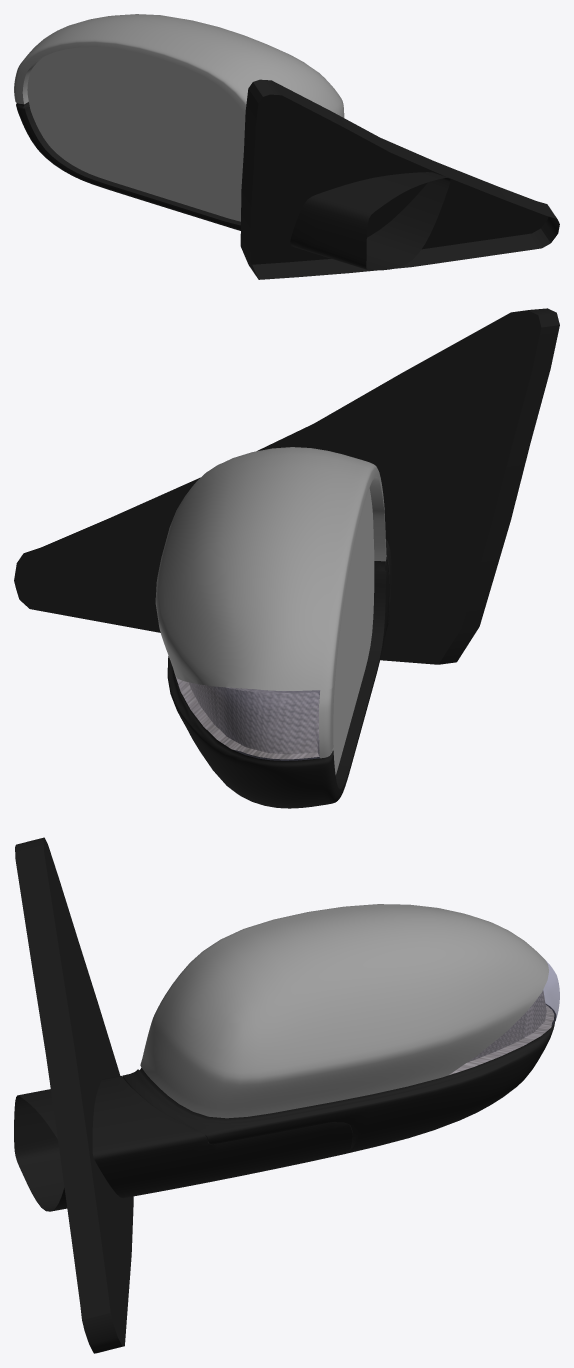
3 renders of one model, top to bottom at view 1: azimuth 30°, elevation 25°; view 2: azimuth 150°, elevation 25°; view 3: azimuth 270°, elevation 25°, orthographic. The views are drawn at different scales.
Visible parts, largest first — view 1: D162_261I_L_D162_261I_L_2_D, D162_261I_L_D162_261I_L_4_DTaSI, D162_261I_L_D162_261I_L_3_DaS; view 2: D162_261I_L_D162_261I_L_2_D, D162_261I_L_D162_261I_L_3_DaS, D162_261I_L_D162_261I_L_5_DTaSI, D162_261I_L_1_N_D162_261I_L, D162_261I_L_D162_261I_L_4_DTaSI, D162_261I_L_D162_261I_L_3_DaS_E; view 3: D162_261I_L_D162_261I_L_3_DaS, D162_261I_L_D162_261I_L_2_D, D162_261I_L_D162_261I_L_5_DTaSI, D162_261I_L_1_N_D162_261I_L.
Part boxes in pixels (<box>): D162_261I_L_D162_261I_L_2_D: <box>16,79,559,279</box>; D162_261I_L_D162_261I_L_4_DTaSI: <box>27,47,245,221</box>; D162_261I_L_D162_261I_L_3_DaS: <box>14,14,344,117</box>; D162_261I_L_D162_261I_L_2_D: <box>14,308,559,808</box>; D162_261I_L_D162_261I_L_3_DaS: <box>155,447,386,758</box>; D162_261I_L_D162_261I_L_5_DTaSI: <box>176,677,319,760</box>; D162_261I_L_1_N_D162_261I_L: <box>176,677,319,759</box>; D162_261I_L_D162_261I_L_4_DTaSI: <box>332,488,374,774</box>; D162_261I_L_D162_261I_L_3_DaS_E: <box>369,477,385,561</box>; D162_261I_L_D162_261I_L_3_DaS: <box>140,904,548,1118</box>; D162_261I_L_D162_261I_L_2_D: <box>14,837,556,1353</box>; D162_261I_L_D162_261I_L_5_DTaSI: <box>450,961,559,1074</box>; D162_261I_L_1_N_D162_261I_L: <box>449,990,554,1074</box>.
Size of the model in its own units: 39.63 by 26.18 by 39.71.
